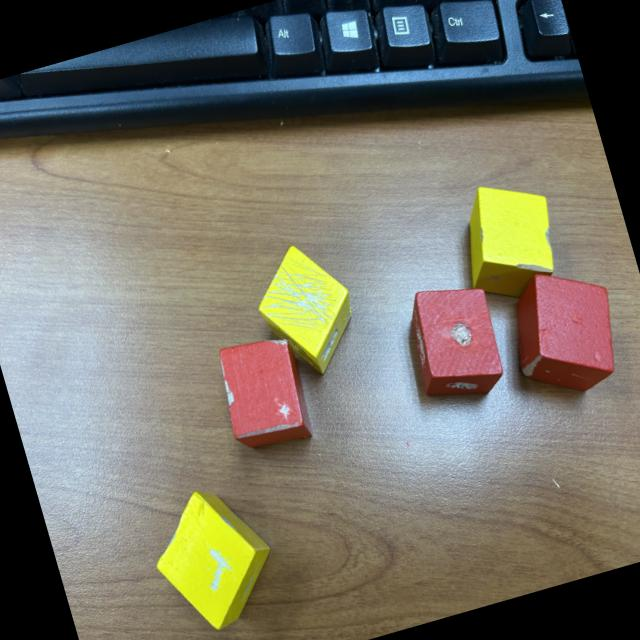broken: (137, 474, 291, 640), (494, 254, 632, 405), (242, 234, 370, 388), (444, 168, 570, 308), (397, 273, 512, 410), (208, 328, 319, 458)
